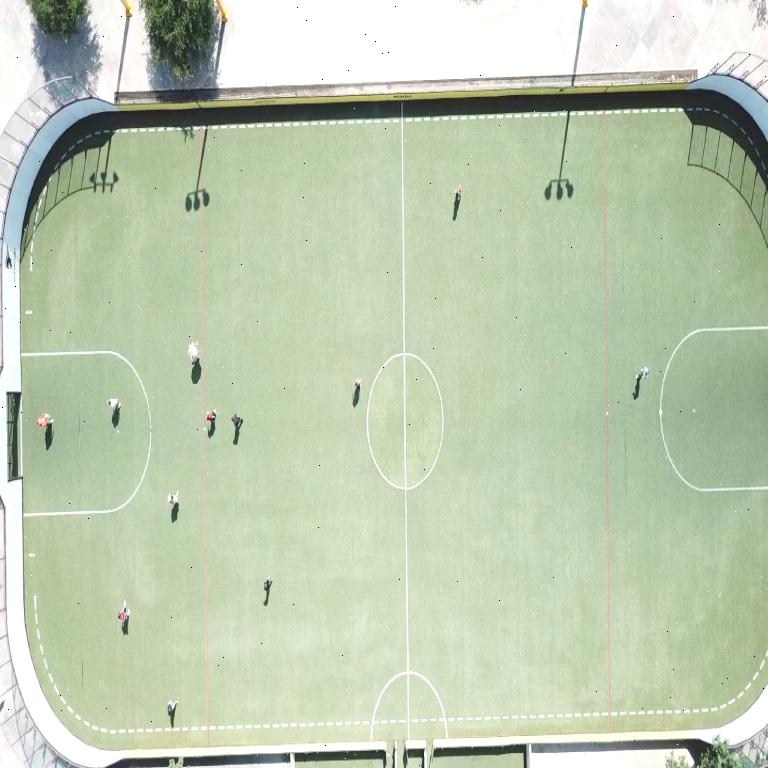AC: (21, 350, 151, 517), (659, 327, 767, 492)
B: (190, 358, 194, 365)
MC: (400, 103, 409, 739)
P: (117, 601, 128, 625), (187, 342, 198, 364), (37, 413, 52, 428), (263, 578, 271, 605), (106, 398, 120, 413), (231, 413, 242, 429), (166, 700, 177, 715), (636, 366, 648, 379), (167, 491, 177, 506), (205, 410, 215, 423), (454, 185, 461, 203), (354, 379, 360, 389)
